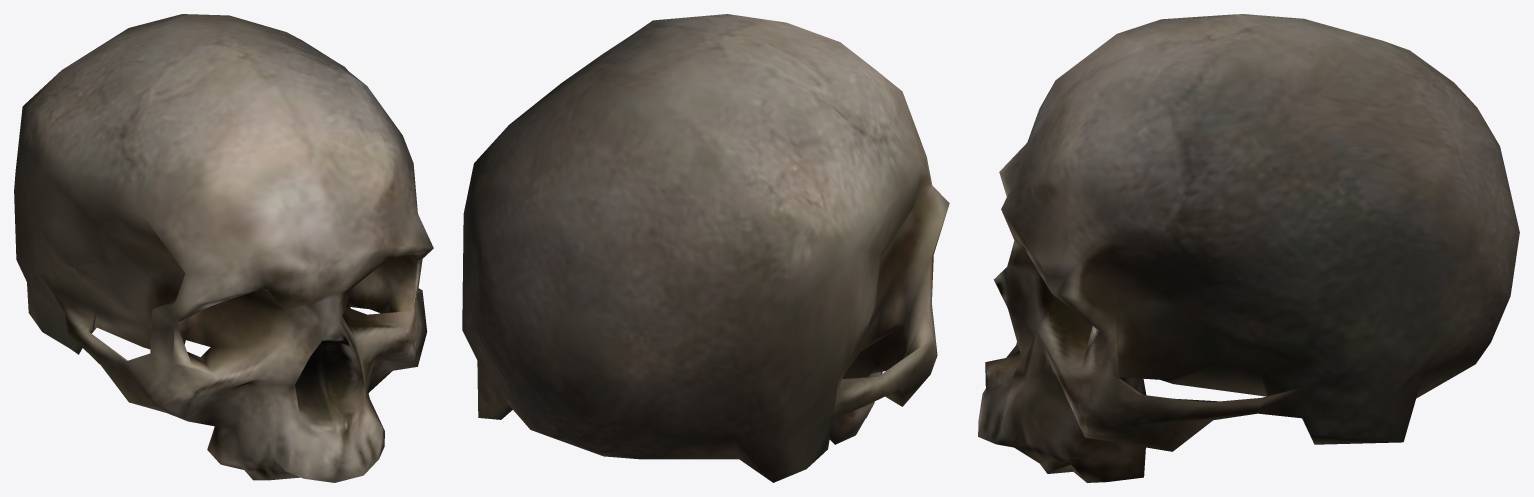
File: skull_06.glb
3 renders of one model, left to right at view 1: azimuth 30°, elevation 25°; view 2: azimuth 150°, elevation 25°; view 3: azimuth 270°, elevation 25°, orthographic. The views are drawn at different scales.
Visible parts, largest first — view 1: skull_06; view 2: skull_06; view 3: skull_06.
Boxes of the visible parts, bbox=[...] form: skull_06: bbox=[14, 14, 433, 482]; skull_06: bbox=[462, 14, 949, 482]; skull_06: bbox=[978, 14, 1519, 482].
Size of the model in its own units: 0.155 by 0.1724 by 0.205.
1 material, 1 textured.
